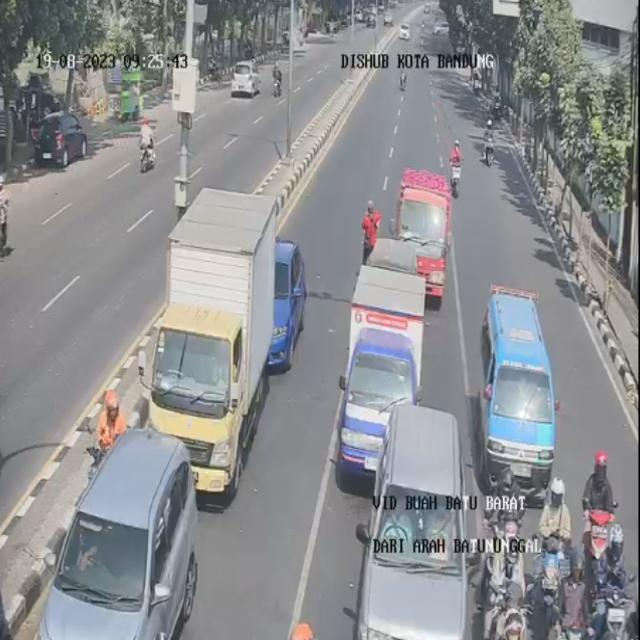cars: (37, 428, 198, 639), (356, 406, 468, 640), (337, 264, 426, 490), (477, 284, 562, 498), (392, 167, 452, 307)
motorcycle: (576, 453, 622, 598), (537, 478, 573, 632), (486, 526, 531, 640), (594, 527, 638, 640), (558, 552, 593, 640), (449, 138, 464, 202), (481, 116, 495, 172)
truck: (143, 187, 277, 501)
